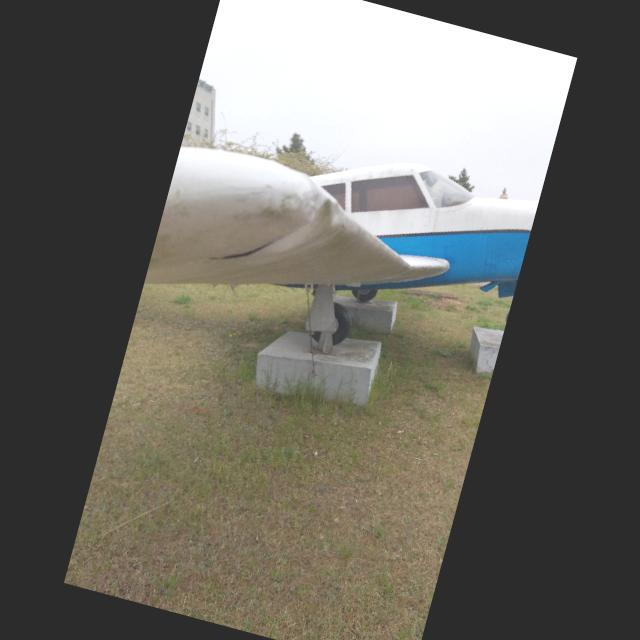dent: (258, 180, 344, 241)
